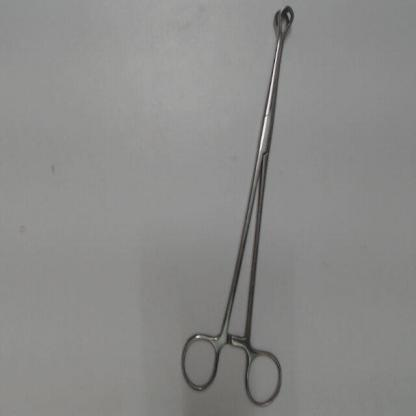8 Babcock Tissue Forceps: (173, 4, 299, 412)
